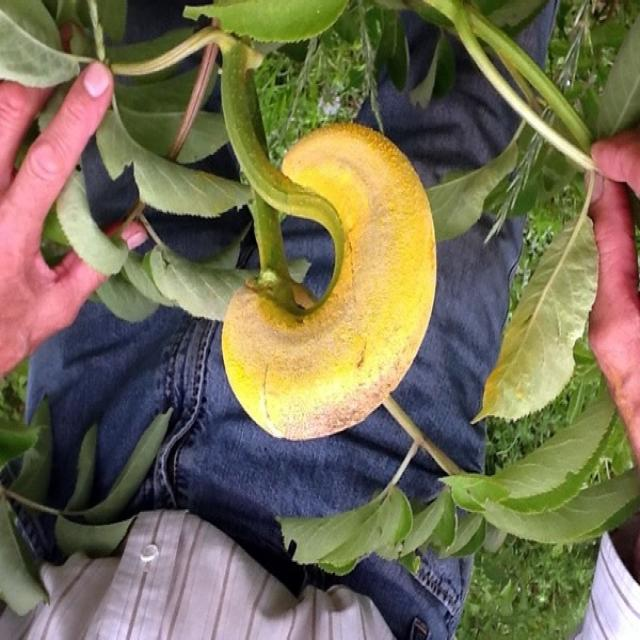Elderberry_rust: (219, 118, 438, 442)
